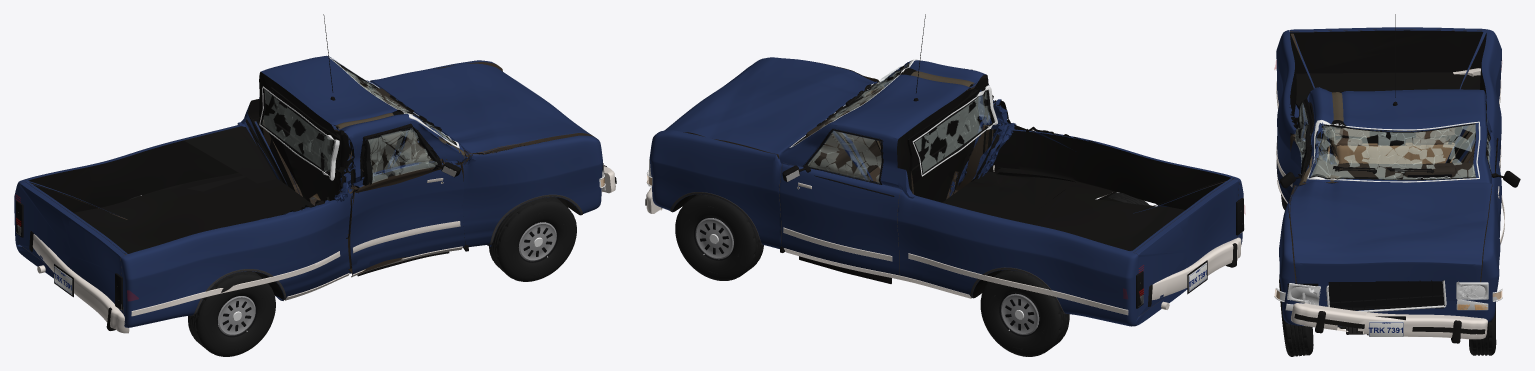
File: pickup87_side_R_d1.glb
The picture shows the model from 3 angles, left to right: view 1: azimuth 30°, elevation 25°; view 2: azimuth 150°, elevation 25°; view 3: azimuth 270°, elevation 25°; orthographic projection. The views are drawn at different scales.
Parts seen in each view (by area): view 1: Body, Hood, Door_FR, Wheel_FR_mesh, Tailgate, Wheel_RR_mesh, Glass, Glass_FR, Trim, Bumper_R, Interior, Trim_FR (+1 smaller); view 2: Body, Hood, Door_FL, Wheel_FL_mesh, Tailgate, Wheel_RL_mesh, Glass, Trim, Trim_FL, Interior, Glass_FL, Bumper_R (+1 smaller); view 3: Body, Hood, Glass, Ends, Interior, Bumper_F, Wheel_FR_mesh, Door_FR, Trim, Glass_FR, Door_FL, Wheel_FL_mesh (+4 smaller).
Part boxes in pixels (<box>): Body: <box>14,55,602,327</box>; Hood: <box>370,63,597,158</box>; Door_FR: <box>346,123,465,274</box>; Wheel_FR_mesh: <box>489,197,576,281</box>; Tailgate: <box>19,181,125,313</box>; Wheel_RR_mesh: <box>188,271,275,356</box>; Glass: <box>259,57,459,180</box>; Glass_FR: <box>362,126,441,185</box>; Trim: <box>131,14,582,316</box>; Bumper_R: <box>29,231,129,333</box>; Interior: <box>313,88,432,200</box>; Trim_FR: <box>351,126,462,277</box>; Body: <box>649,58,1243,326</box>; Hood: <box>664,57,877,158</box>; Door_FL: <box>779,128,901,275</box>; Wheel_FL_mesh: <box>675,194,763,280</box>; Tailgate: <box>1134,178,1239,315</box>; Wheel_RL_mesh: <box>980,270,1069,356</box>; Glass: <box>789,59,997,176</box>; Trim: <box>670,14,1160,315</box>; Trim_FL: <box>782,129,900,283</box>; Interior: <box>805,87,883,182</box>; Glass_FL: <box>807,129,883,184</box>; Bumper_R: <box>1148,237,1241,306</box>; Body: <box>1276,29,1501,326</box>; Hood: <box>1290,180,1492,301</box>; Glass: <box>1307,120,1480,182</box>; Ends: <box>1274,280,1502,336</box>; Interior: <box>1312,127,1475,178</box>; Bumper_F: <box>1291,303,1487,343</box>; Wheel_FR_mesh: <box>1279,276,1313,356</box>; Door_FR: <box>1290,98,1313,190</box>; Trim: <box>1276,14,1501,203</box>; Glass_FR: <box>1295,101,1311,176</box>; Door_FL: <box>1485,102,1501,237</box>; Wheel_FL_mesh: <box>1469,303,1496,355</box>.
Bounding box in the file's own units: 5.02 × 2.51 × 2.13.
Materials: 34 (5 with a texture image).
